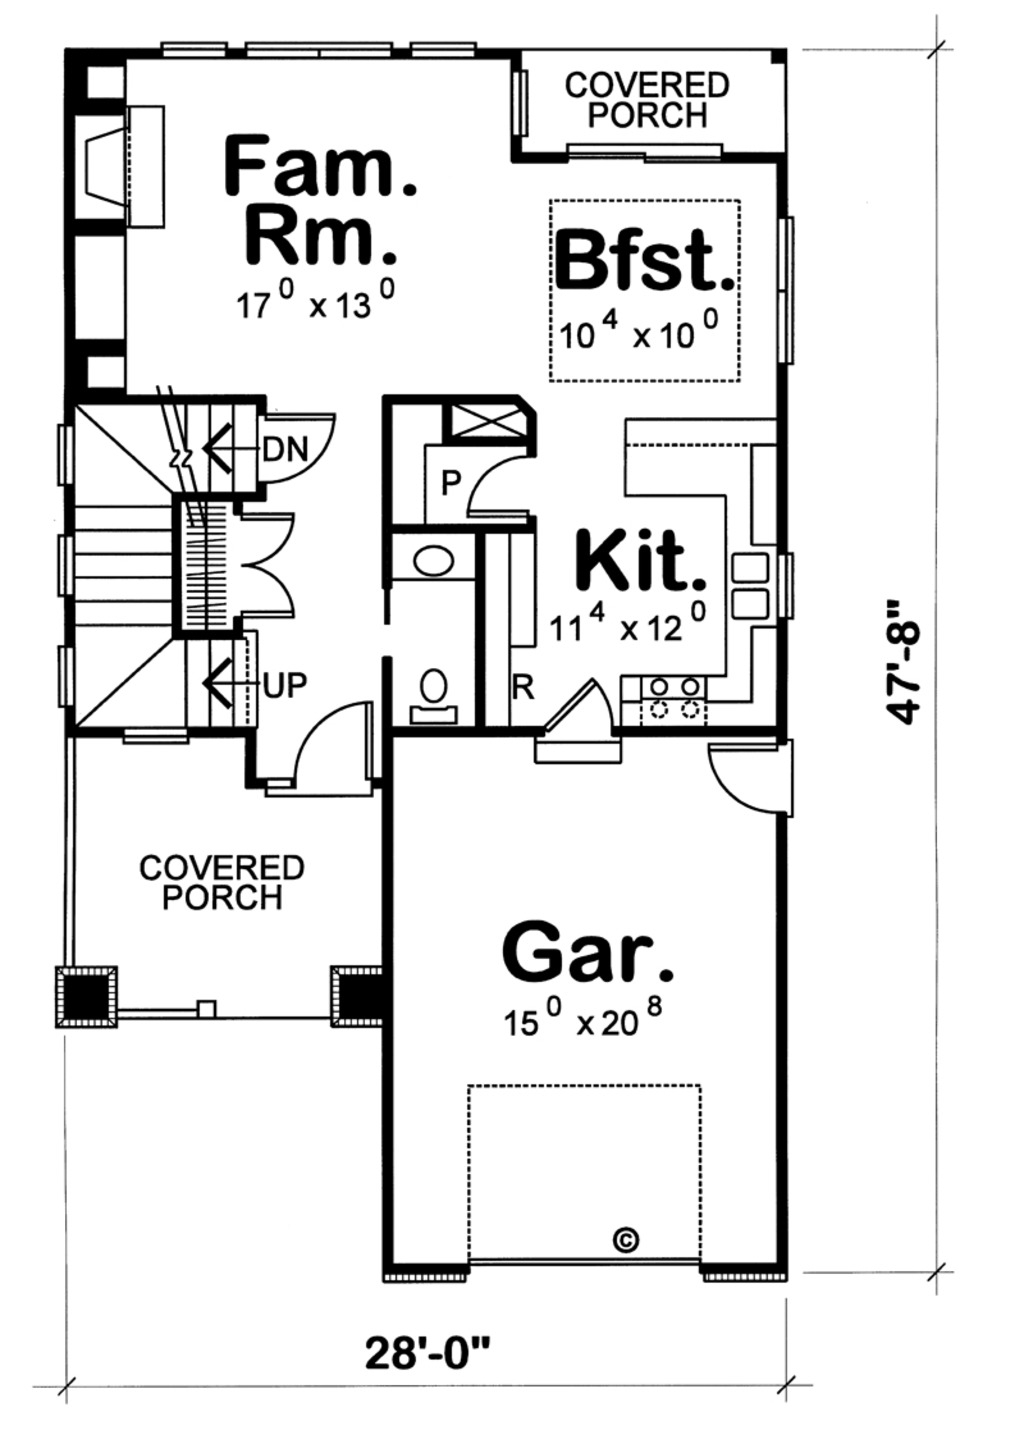door: (205, 487, 311, 630), (702, 736, 828, 823), (269, 692, 373, 795), (531, 671, 626, 769), (454, 427, 541, 521), (253, 408, 347, 487)
large_sink: (395, 656, 462, 730)
small_sink: (390, 529, 475, 583)
stairs: (75, 395, 263, 723)
twin_sink: (721, 535, 784, 630)
window: (762, 212, 808, 375), (243, 35, 393, 62), (502, 57, 540, 142)
